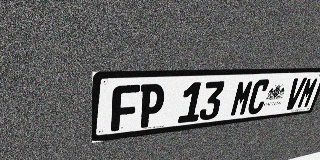1: (178, 82, 205, 123)
3: (198, 81, 225, 121)
C: (246, 79, 271, 115)
F: (111, 85, 140, 132)
M: (229, 80, 255, 117), (296, 77, 320, 109)
P: (137, 83, 166, 128)
V: (283, 78, 307, 110)
